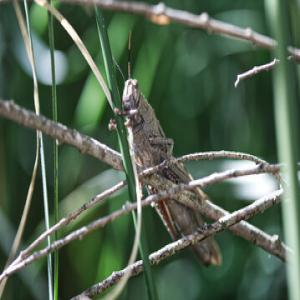locust: (122, 57, 233, 241)
